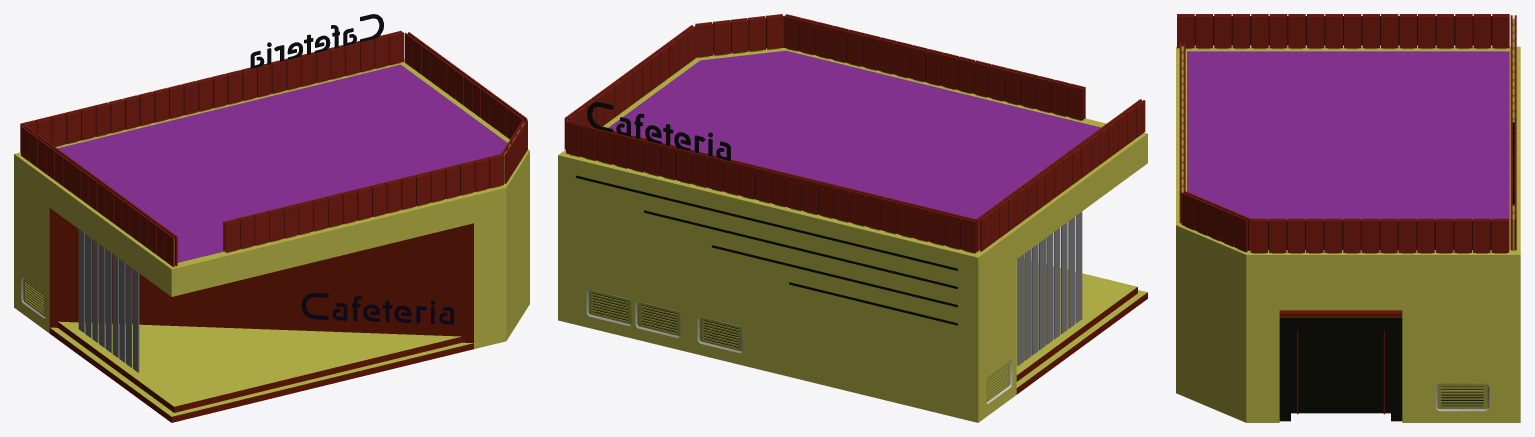
File: Building_Cafe_004_L1.fbx
The picture shows the model from 3 angles, left to right: view 1: azimuth 30°, elevation 25°; view 2: azimuth 150°, elevation 25°; view 3: azimuth 270°, elevation 25°; orthographic projection. The views are drawn at different scales.
Parts seen in each view (by area): view 1: Building_Cafe_004_L1; view 2: Building_Cafe_004_L1; view 3: Building_Cafe_004_L1.
Boxes of the visible parts, x1,y1,x2,y2 form: Building_Cafe_004_L1: (14, 14, 529, 422); Building_Cafe_004_L1: (558, 14, 1147, 422); Building_Cafe_004_L1: (1176, 14, 1520, 422).
Bounding box in the file's own units: 13.5 × 6.8 × 9.3.
